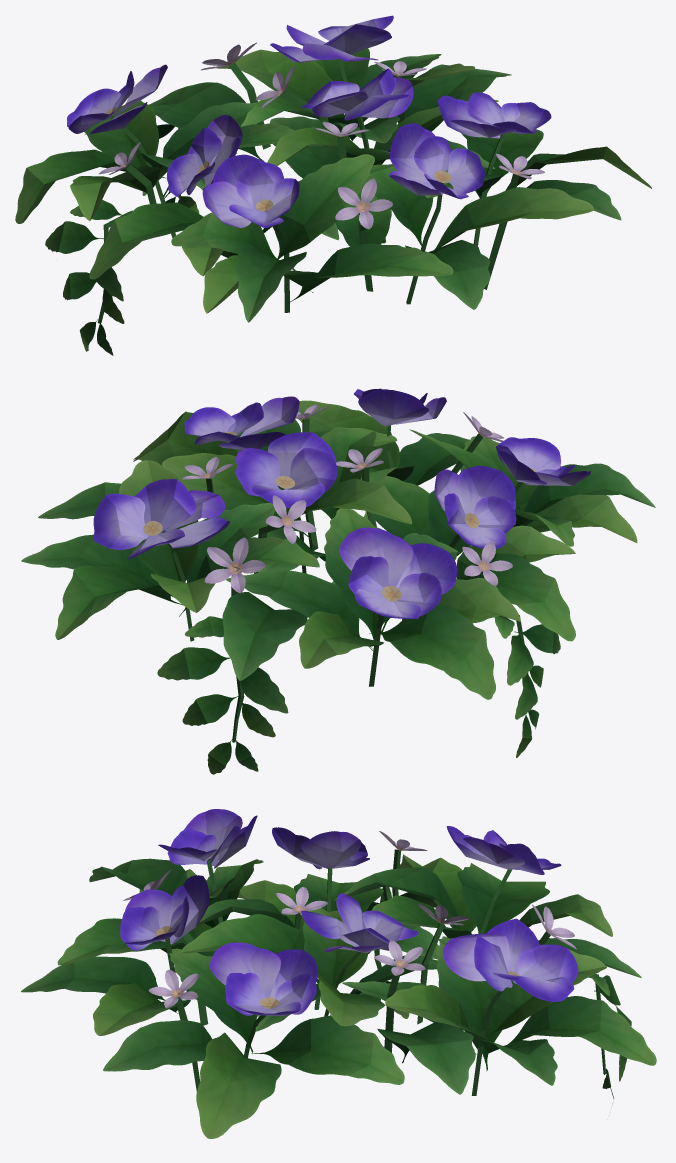
Rendered from P_FlowerSansejing_03.obj.
3 views of the same model, one above another, from view 1: azimuth 30°, elevation 25°; view 2: azimuth 150°, elevation 25°; view 3: azimuth 270°, elevation 25° (orthographic). The views are drawn at different scales.
Bounding box in the file's own units: 1.03 × 0.4796 × 1.07.
Materials: 1 (1 with a texture image).
